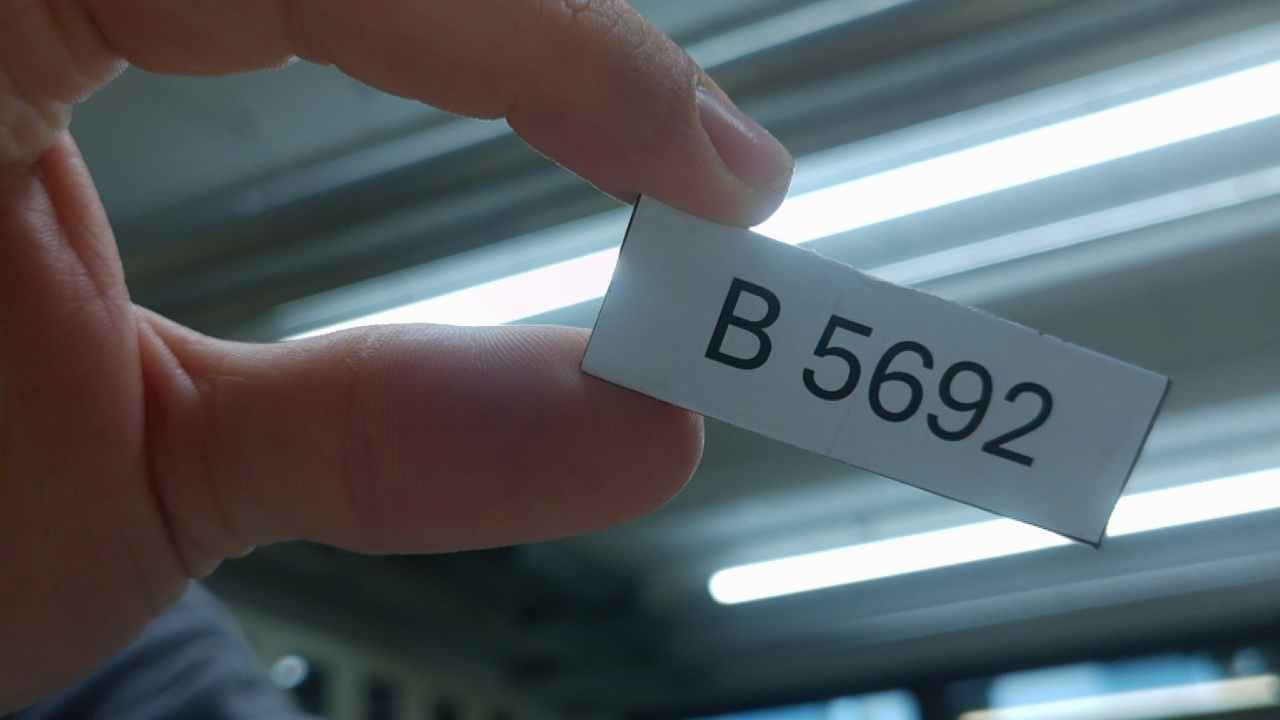license_plate: (572, 181, 1190, 568)
